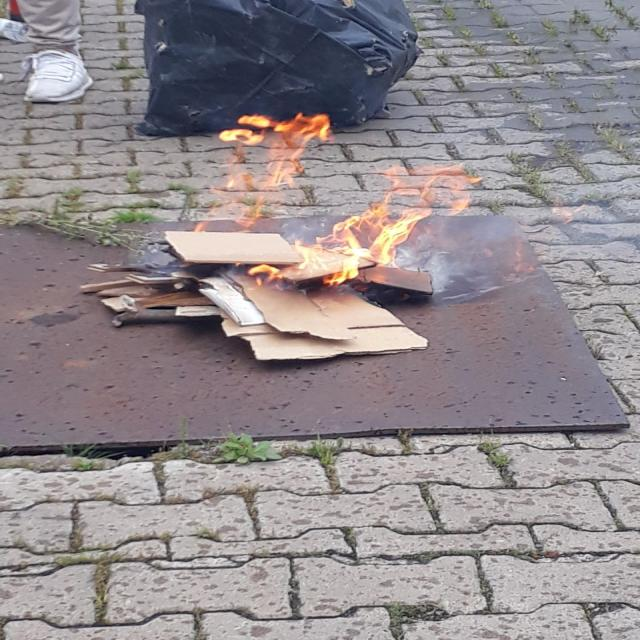fire: (150, 109, 509, 294)
